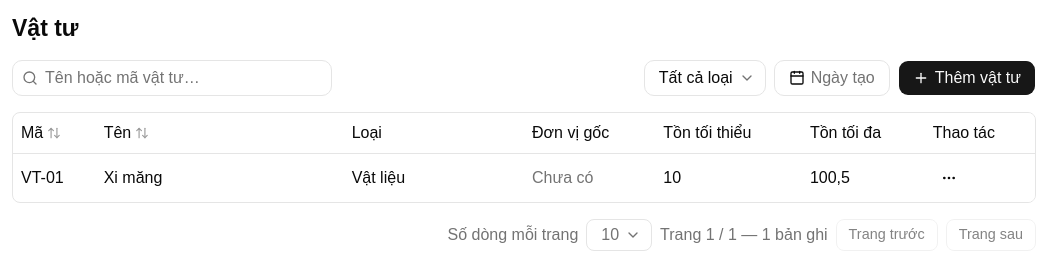
it: MaterialsPage › có dữ liệu rồi gõ @@@ → chân bảng không còn tổng cũ
Check: the link "Xi măng" is shown, box [104,168,162,186]
Check: the text "Trang 1 / 1 — 1 bản ghi" is shown, box [660,222,828,246]
Type "@@@" into the search field with placeholder "Tên hoặc mã vật tư…" at {"x": 172, "y": 78}, box [12,60,332,96]
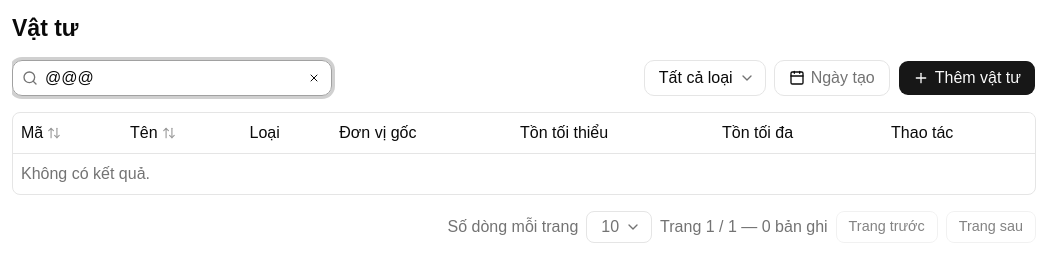
Check: the text "Không có kết quả." is shown, box [13,153,1035,194]
Check: the text "Trang 1 / 1 — 1 bản ghi" is gone
Check: the text "Trang 1 / 1 — 0 bản ghi" is shown, box [660,214,828,238]
